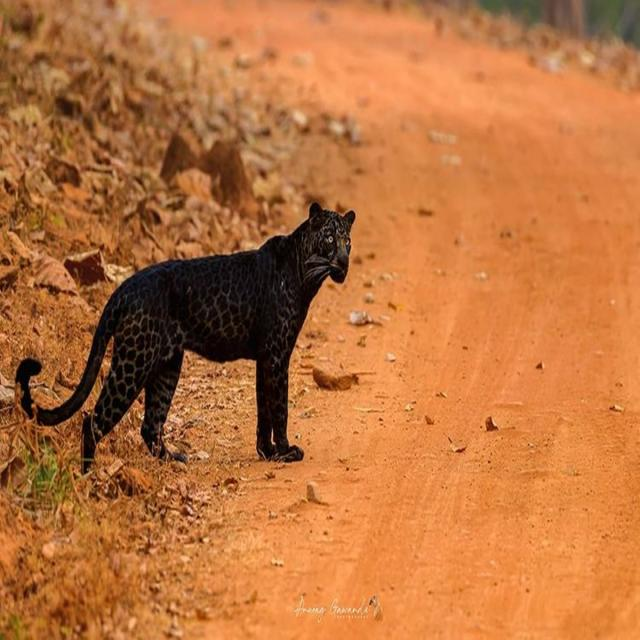Leopard: (15, 201, 357, 467)
